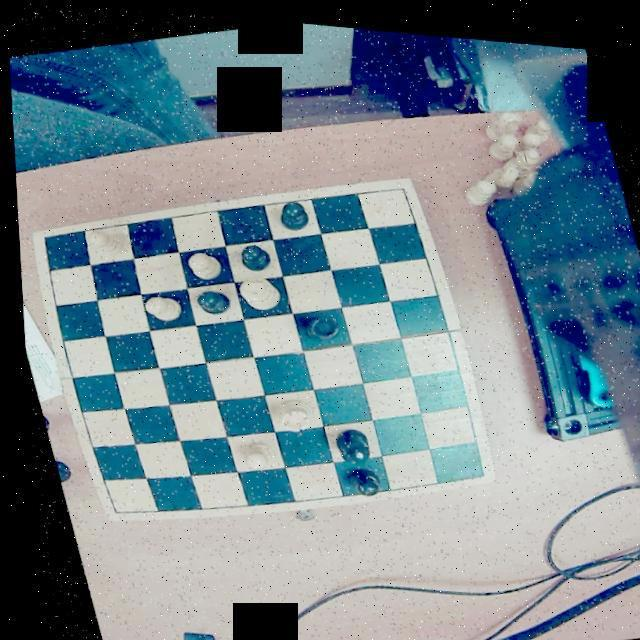chess-table-corners: (458, 449, 488, 477), (388, 170, 415, 197), (28, 224, 58, 247), (93, 494, 119, 518)
